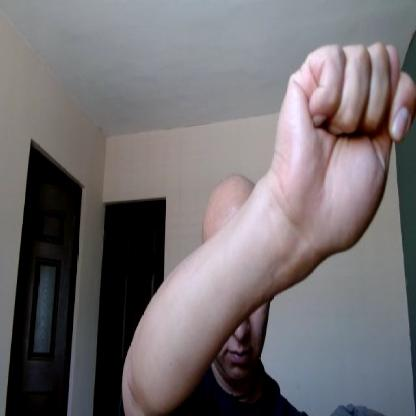T: (272, 39, 415, 250)
